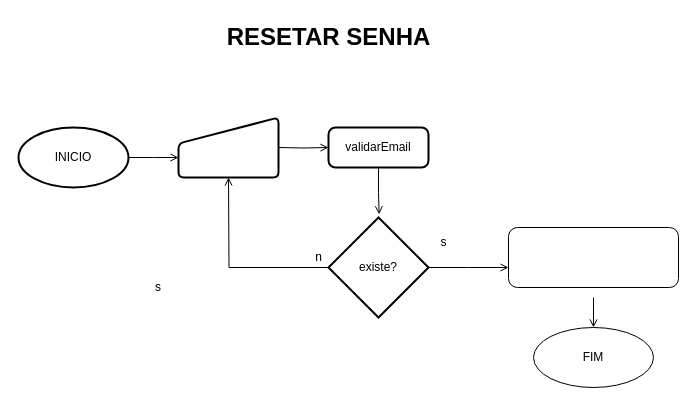
Image size: 696x405. Some labels were removed from this diagram. The centre of each missing label's shape, as x and y in pixels:
email: point 228,147
enviarSolicitarResetSenha: point 593,257
